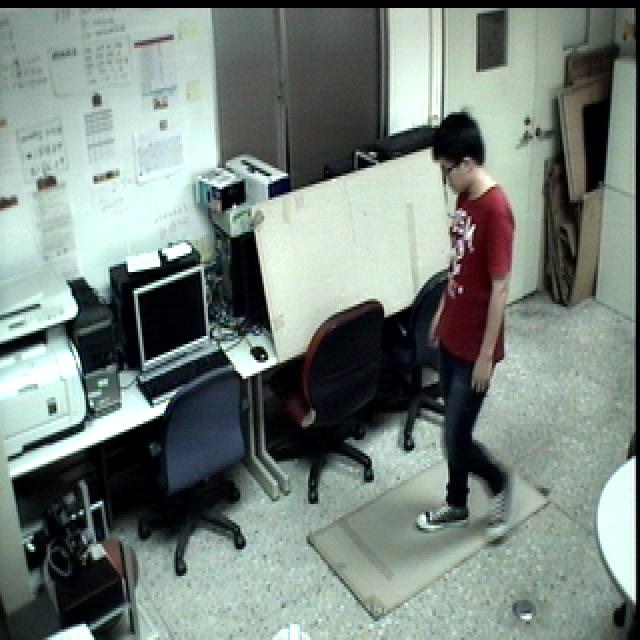stand: (400, 104, 521, 549)
